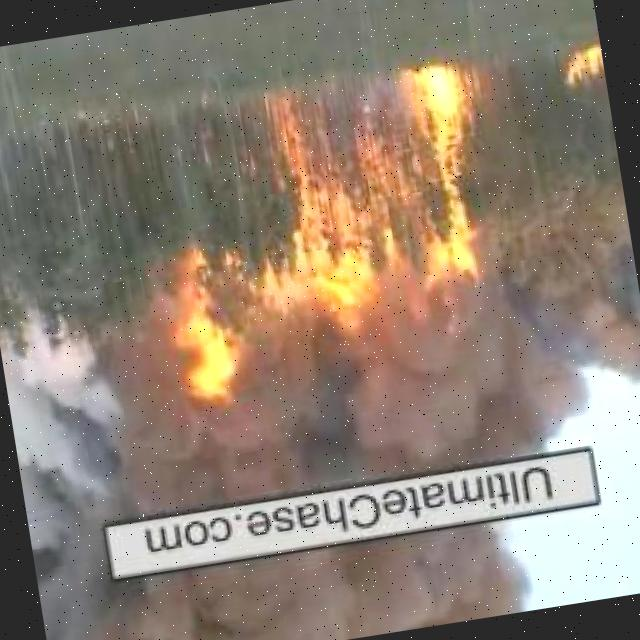fire: (262, 52, 506, 324), (160, 254, 240, 419), (554, 45, 607, 94)
